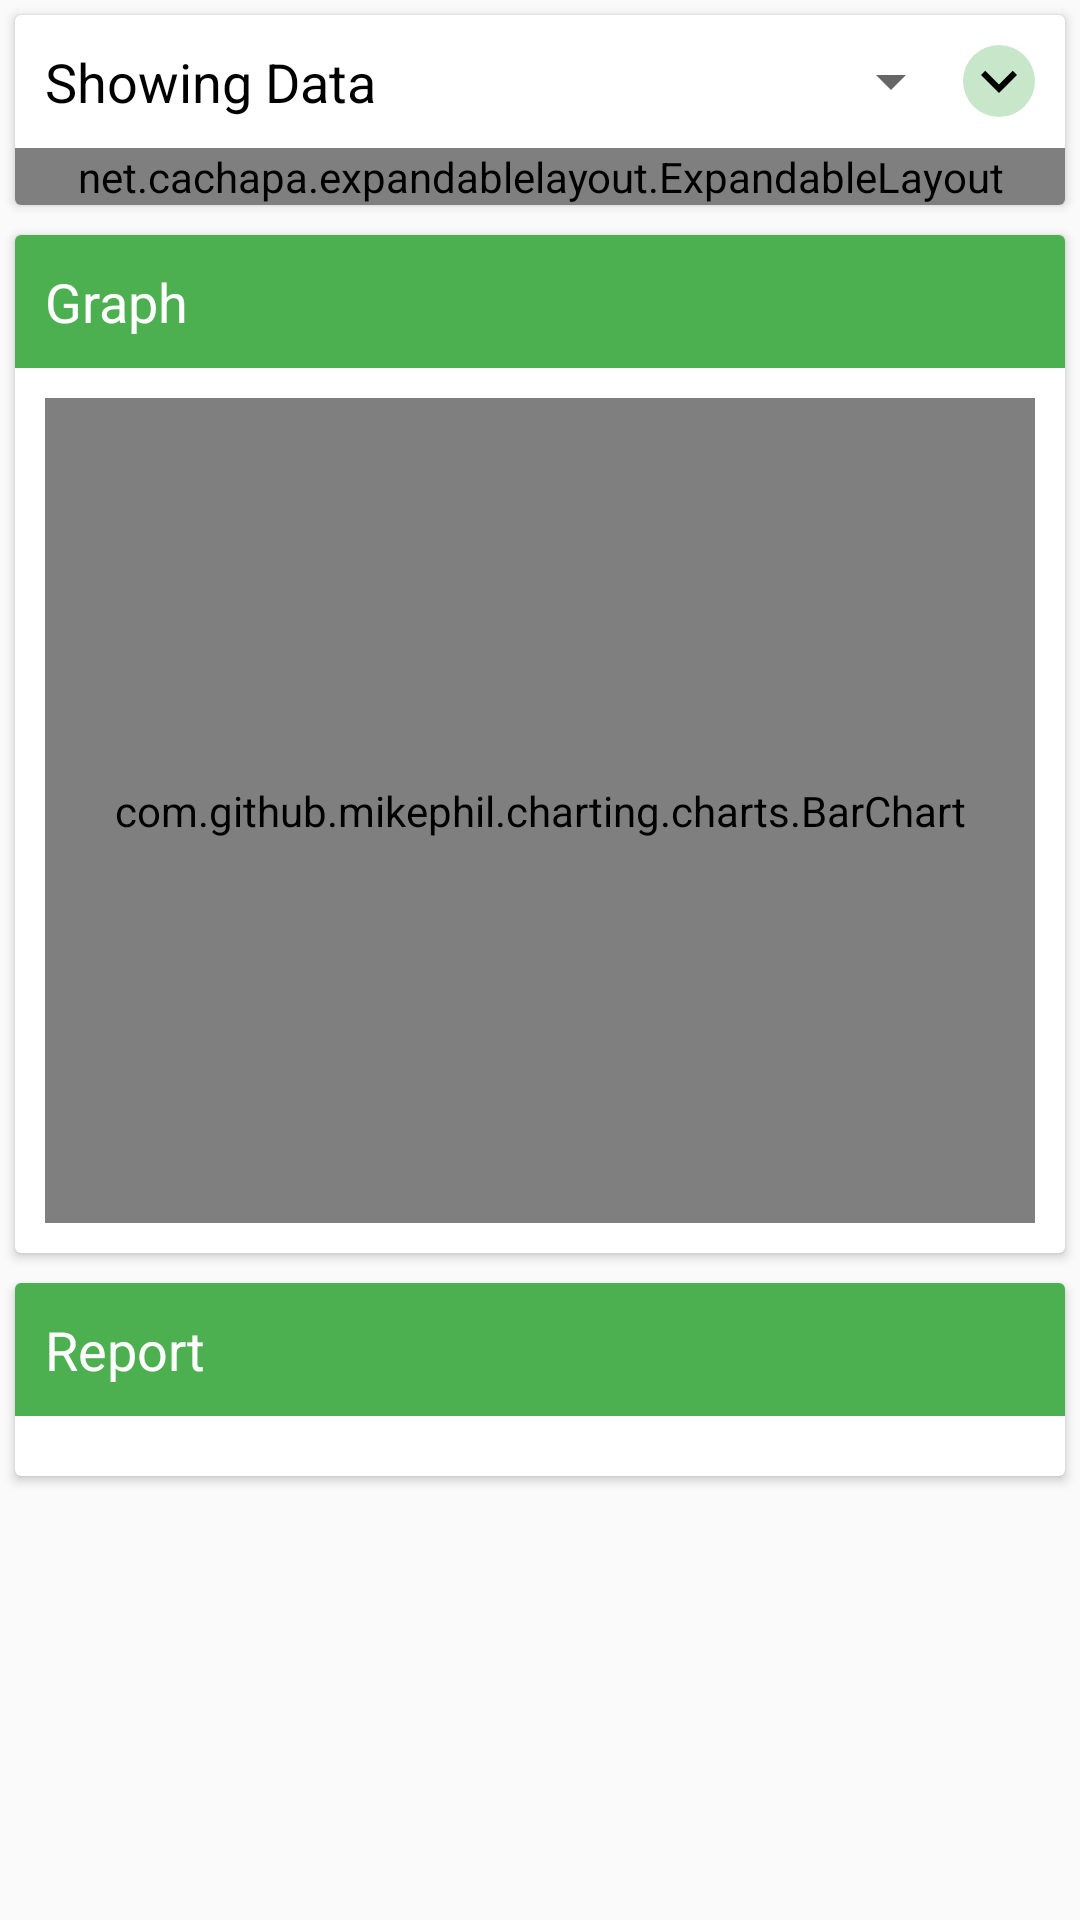

Icon bounding boxes for this 1080w x 1920h phone screenshot, format (x1, y1, x2, y2):
expand more: (963, 45, 1035, 117)
